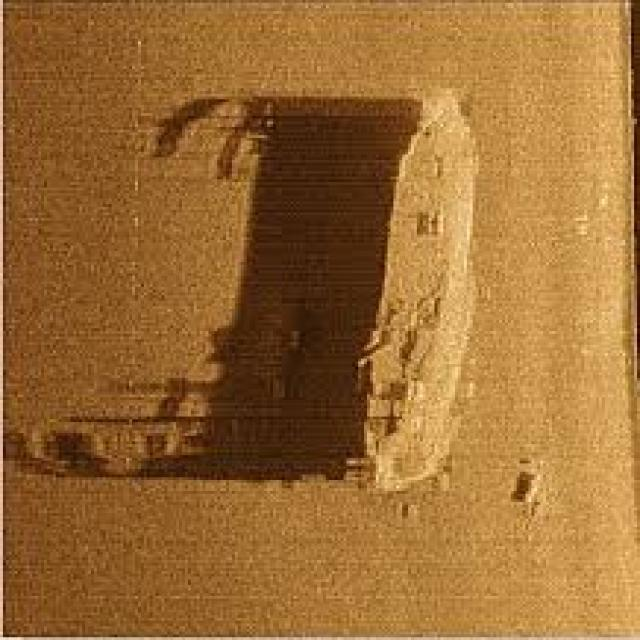shipwreck: (361, 85, 487, 494)
